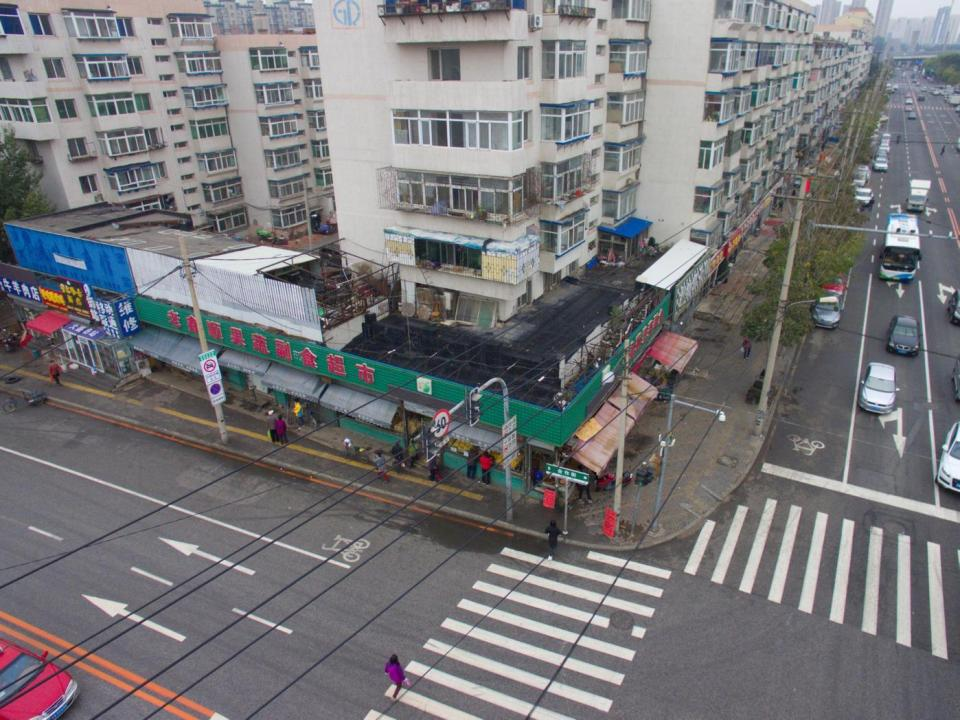bus: (880, 211, 922, 284), (907, 177, 931, 211)
car: (0, 635, 80, 717), (857, 363, 900, 414), (935, 418, 959, 497), (886, 314, 922, 358), (812, 292, 842, 330), (820, 272, 846, 298), (855, 188, 874, 205), (874, 155, 887, 173), (874, 148, 887, 162), (835, 120, 850, 130), (878, 144, 890, 154), (795, 174, 803, 187), (877, 115, 888, 122), (906, 97, 912, 106), (910, 112, 916, 120), (917, 92, 923, 100), (916, 81, 920, 87)
van: (320, 241, 352, 267), (854, 170, 870, 184), (858, 165, 871, 180), (880, 133, 891, 145)
